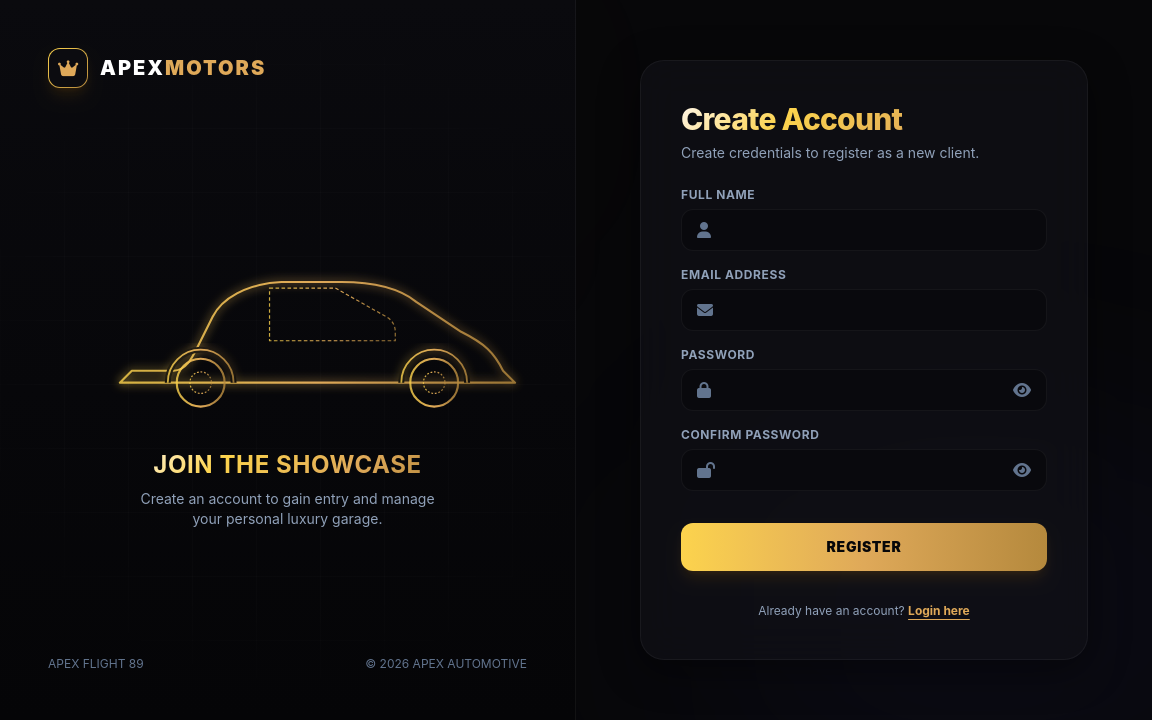
it: Register Component › displays validation error if passwords do not match
Type "Alice Smith" into the field labelled "Full Name" at (864, 230), box [681,209,1047,251]
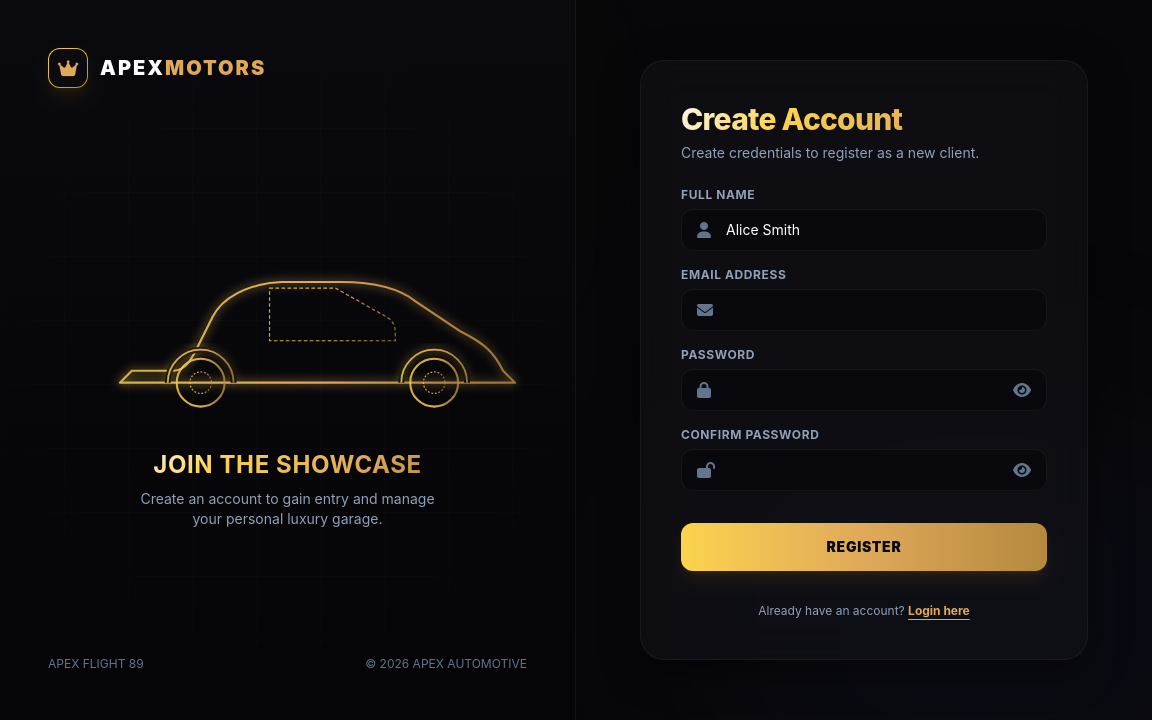
Type "alice@example.com" into the field labelled "Email Address" at (864, 310), box [681,289,1047,331]
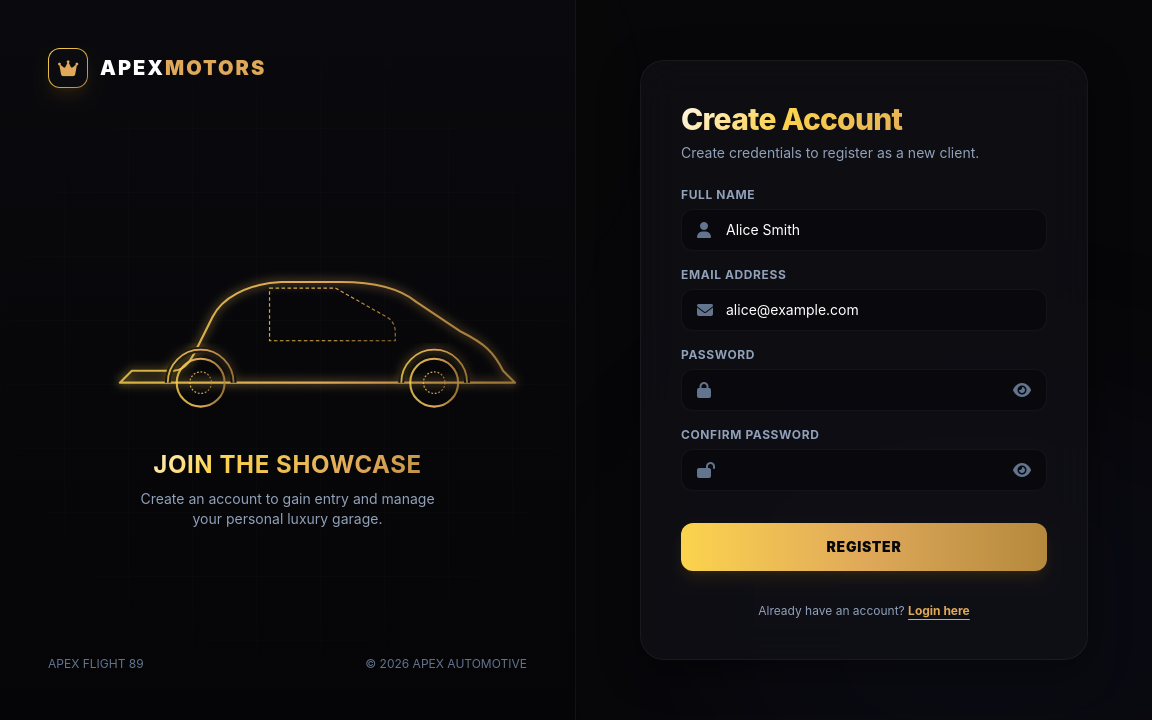
Type "password123" into the password field labelled "Password" at (864, 390), box [681,369,1047,411]
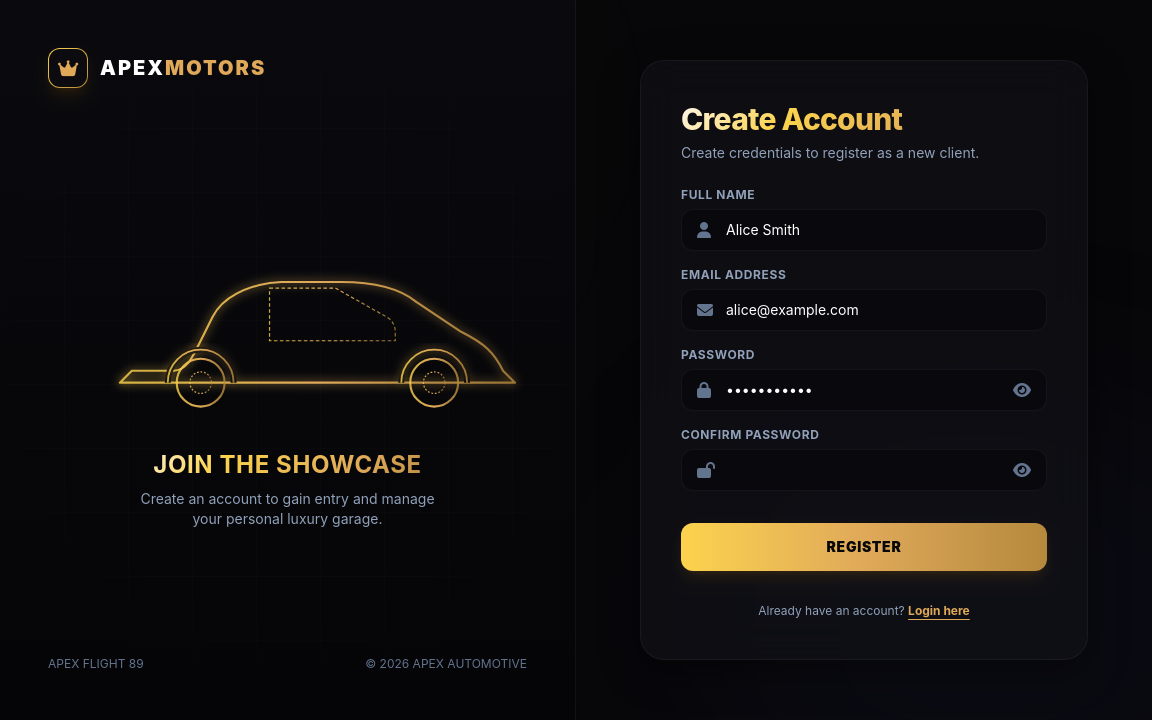
Type "mismatch" into the password field labelled "Confirm Password" at (864, 470), box [681,449,1047,491]
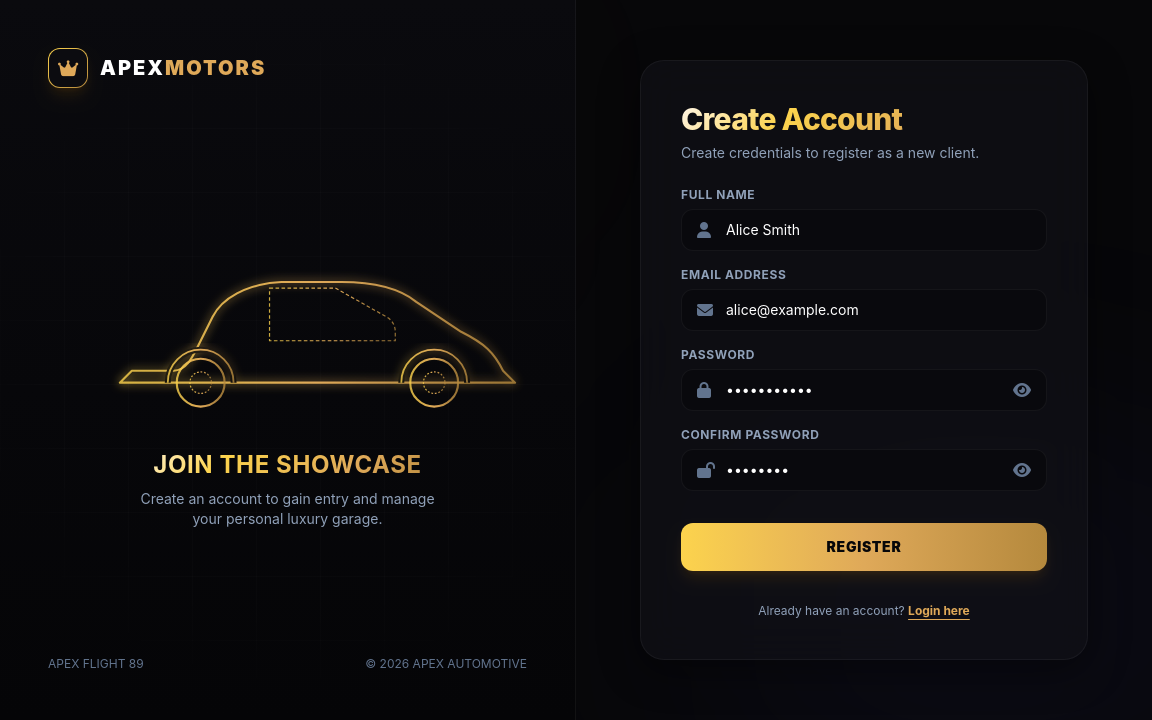
Click the button "Register" at (864, 547), box [681,523,1047,571]
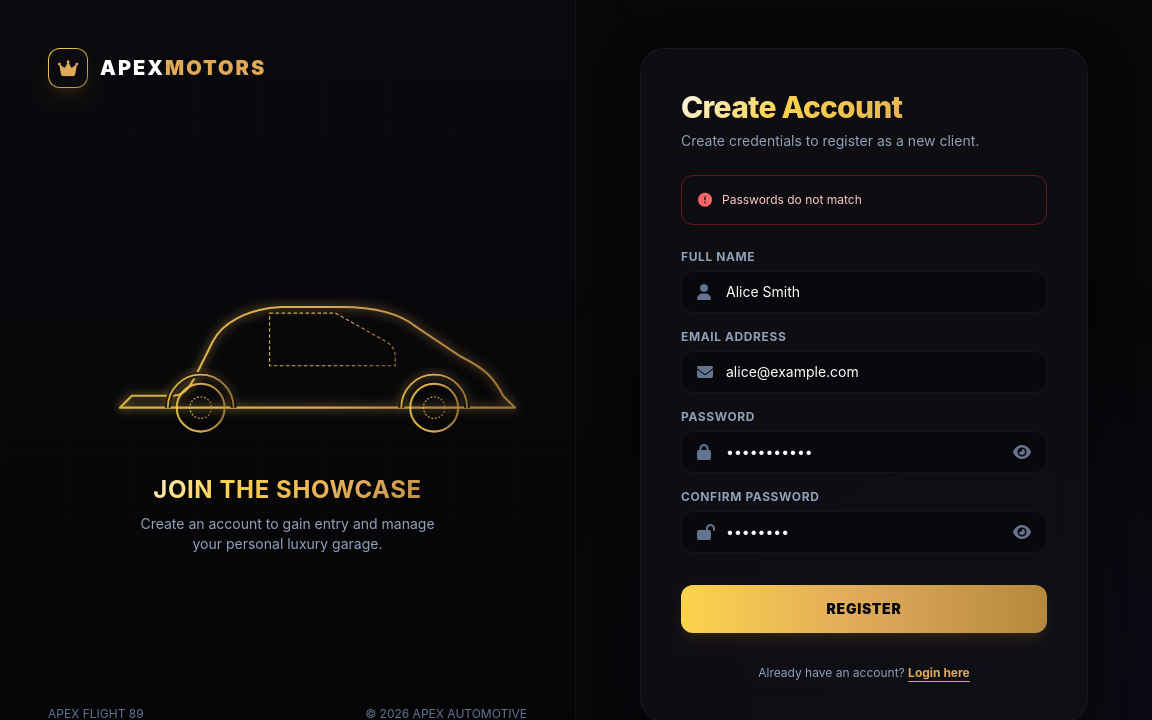
Expected: the text "Passwords do not match" is shown, [722,192,862,208]
